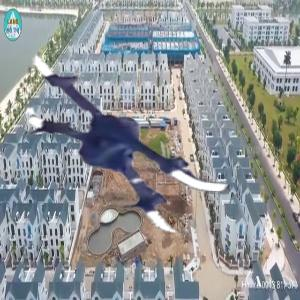drone: (17, 15, 248, 246)
